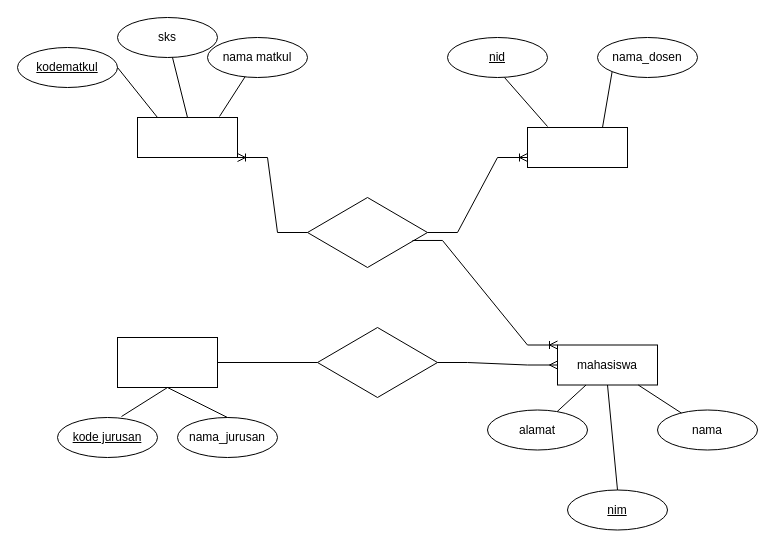
Some shapes in this 775 by 548 pixel diagram are drawn without their labels. Each missing label, with the centre of its shape:
"dosen" belongs at (x=577, y=147).
"jurusan" belongs at (x=167, y=362).
"kontrak" belongs at (x=367, y=232).
"matakuliah" belongs at (x=187, y=137).
"mengikuti" belongs at (x=377, y=362).
